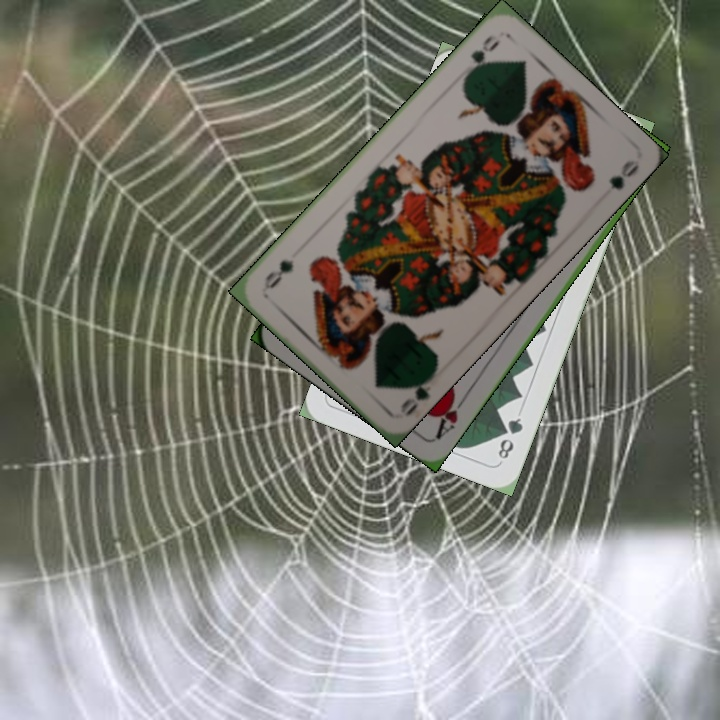G8: (494, 413, 526, 462)
GO: (396, 368, 438, 419), (461, 30, 503, 80)
HA: (431, 388, 471, 442)
